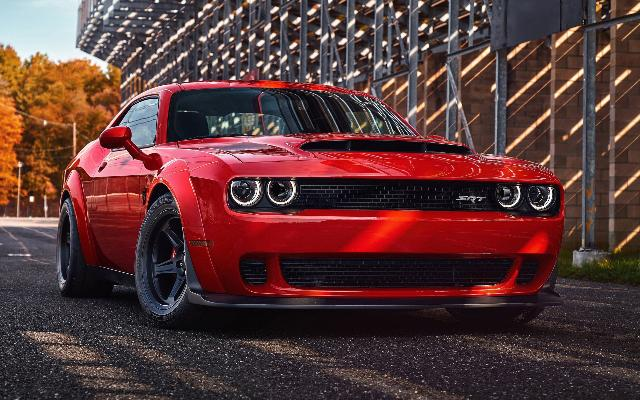dodge: (55, 80, 565, 328)
